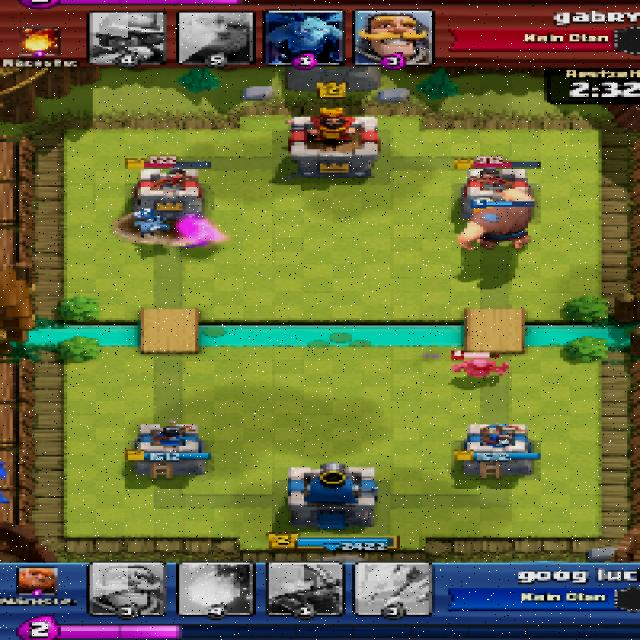Enemy-MiniPEKKA: (445, 356, 510, 379)
Player-Giant: (460, 189, 536, 250)
Player-Minion: (137, 212, 162, 230), (132, 220, 157, 234)
